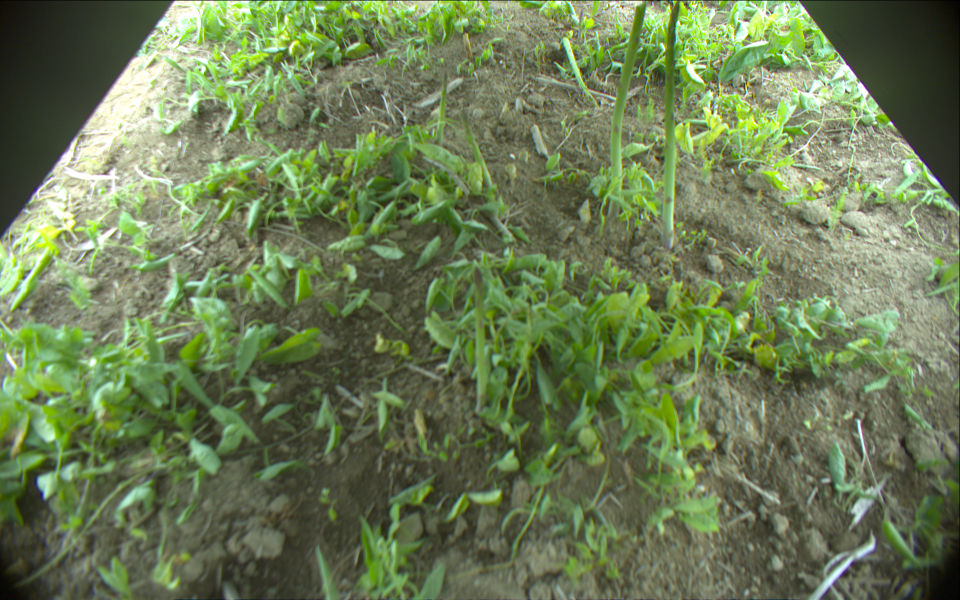aspa: (610, 1, 645, 190), (662, 1, 682, 247), (461, 109, 494, 191), (473, 267, 488, 411), (562, 37, 590, 95), (431, 71, 450, 147)
